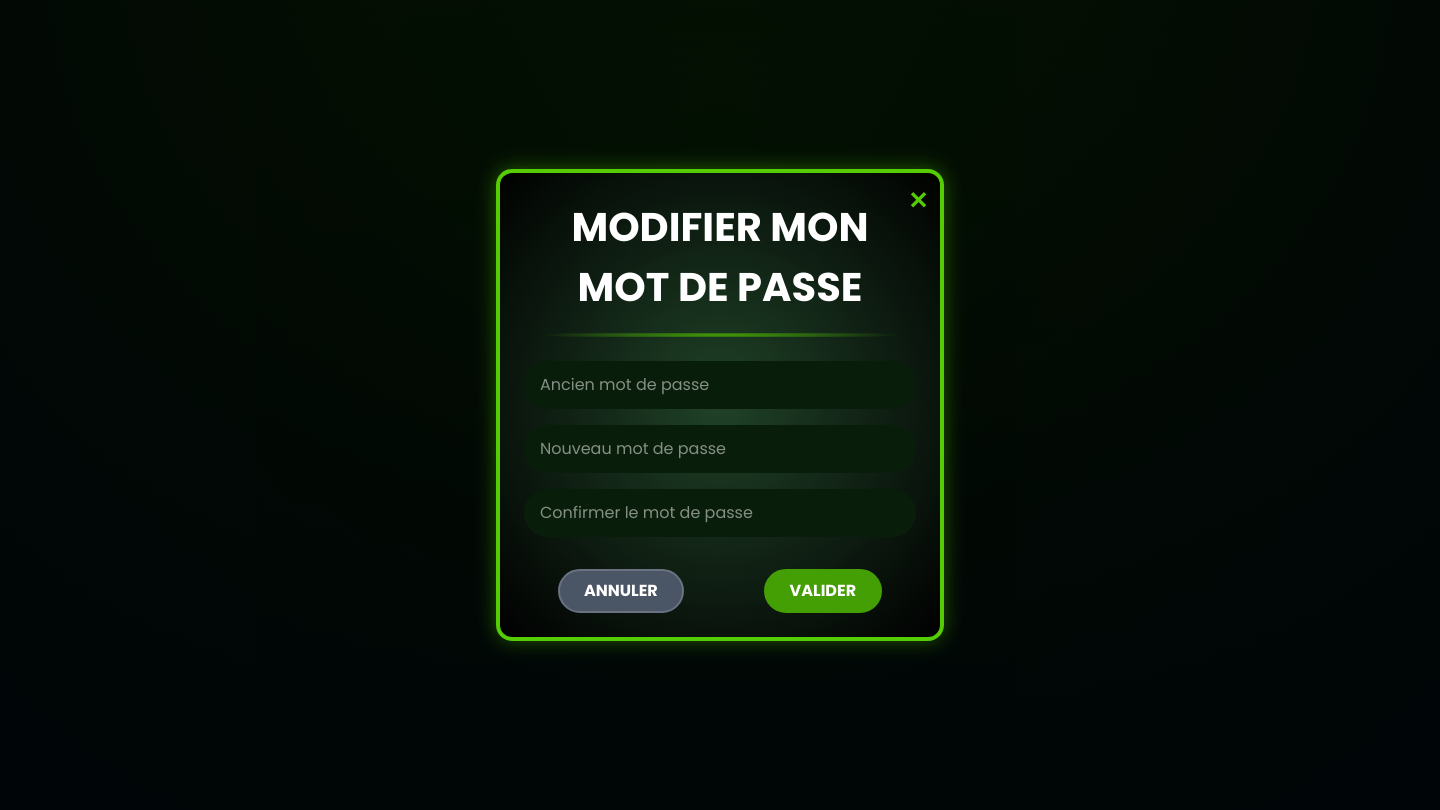
Test: ChangePasswordModal › sends the request and closes the modal on success
Note: Fill valid fields
Type "oldpass" into the password field with placeholder "Ancien mot de passe" at (720, 385), box [524,361,916,409]
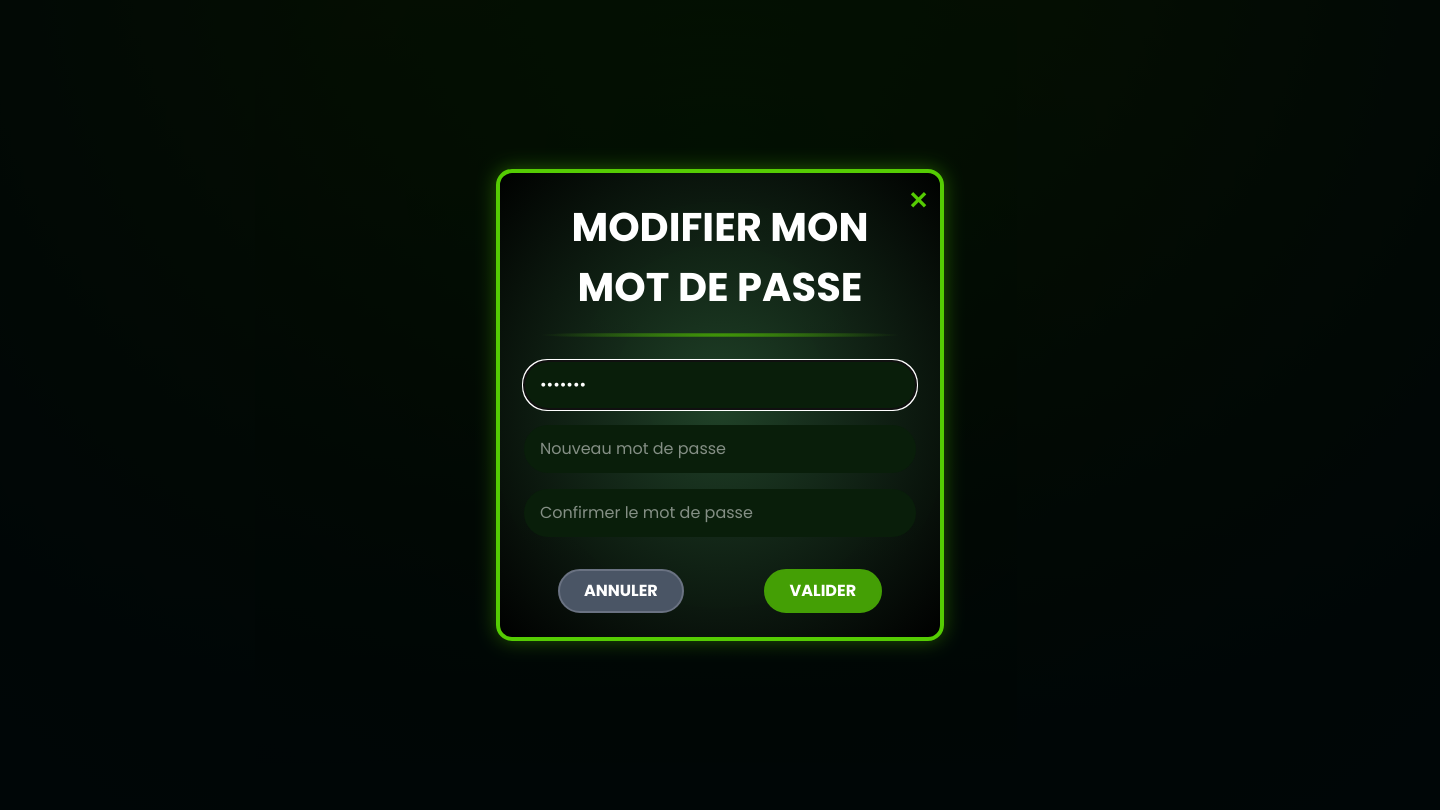
Type "newpass" into the password field with placeholder "Nouveau mot de passe" at (720, 449), box [524,425,916,473]
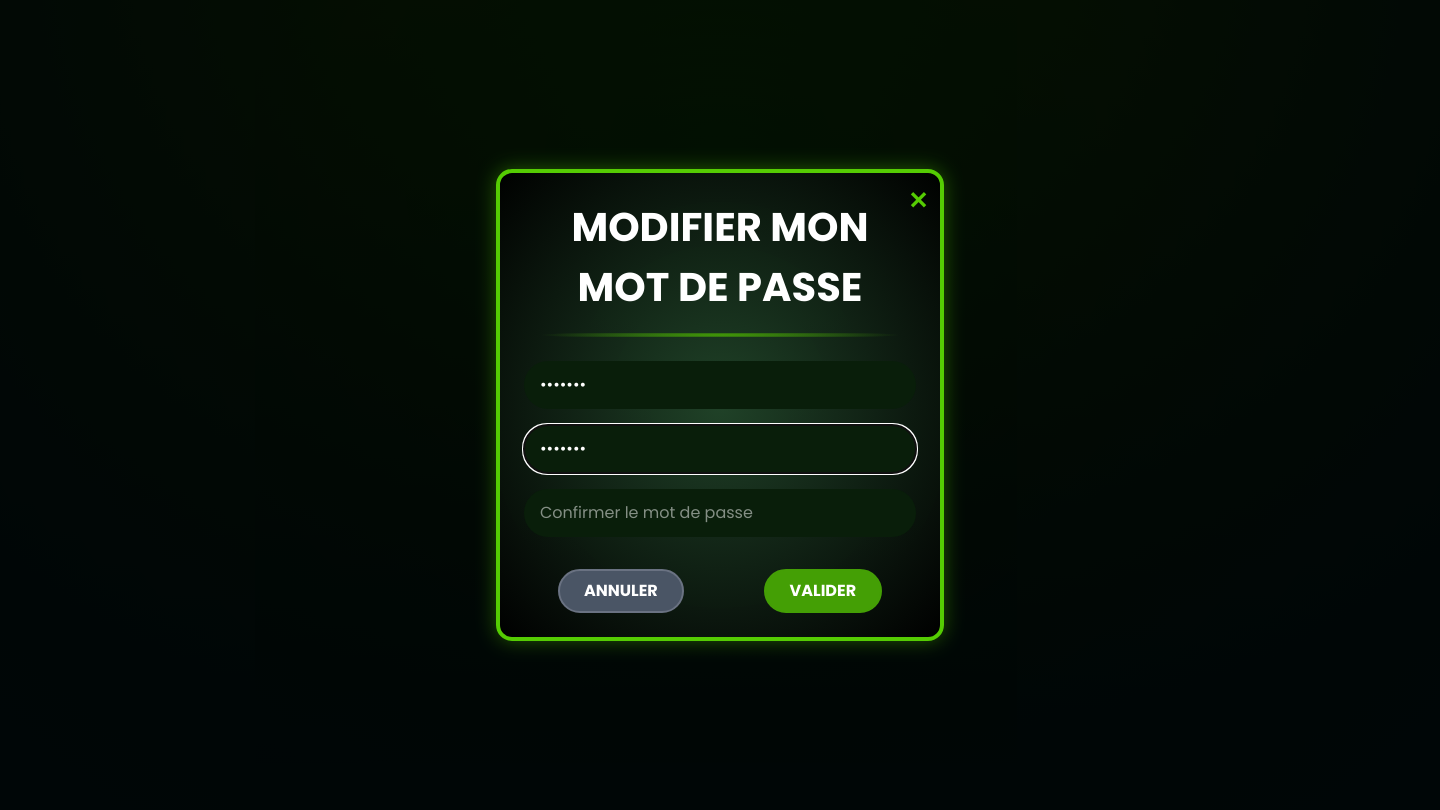
Type "newpass" into the password field with placeholder "Confirmer le mot de passe" at (720, 513), box [524,489,916,537]
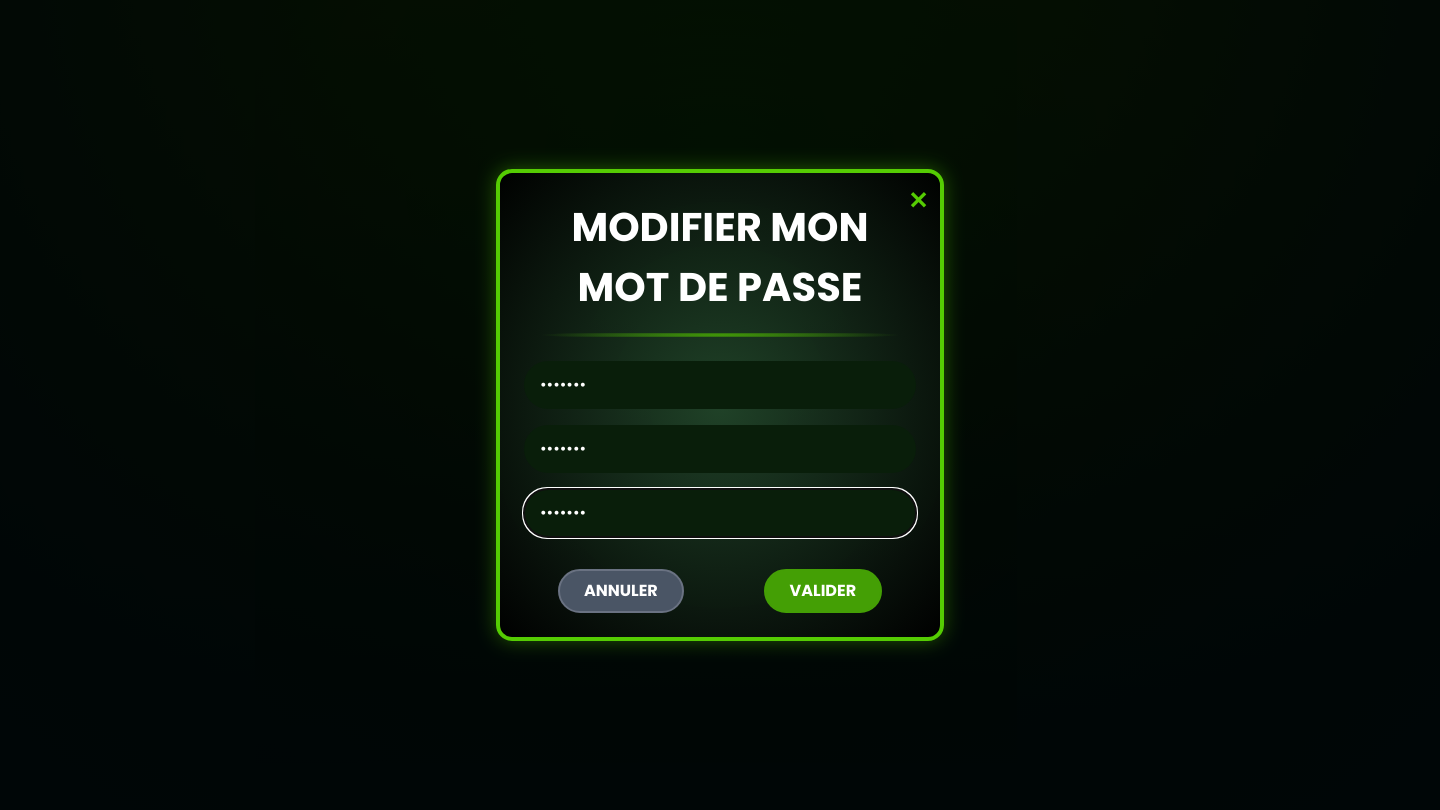
Click the button "Valider" at (823, 591), box [764,569,882,613]
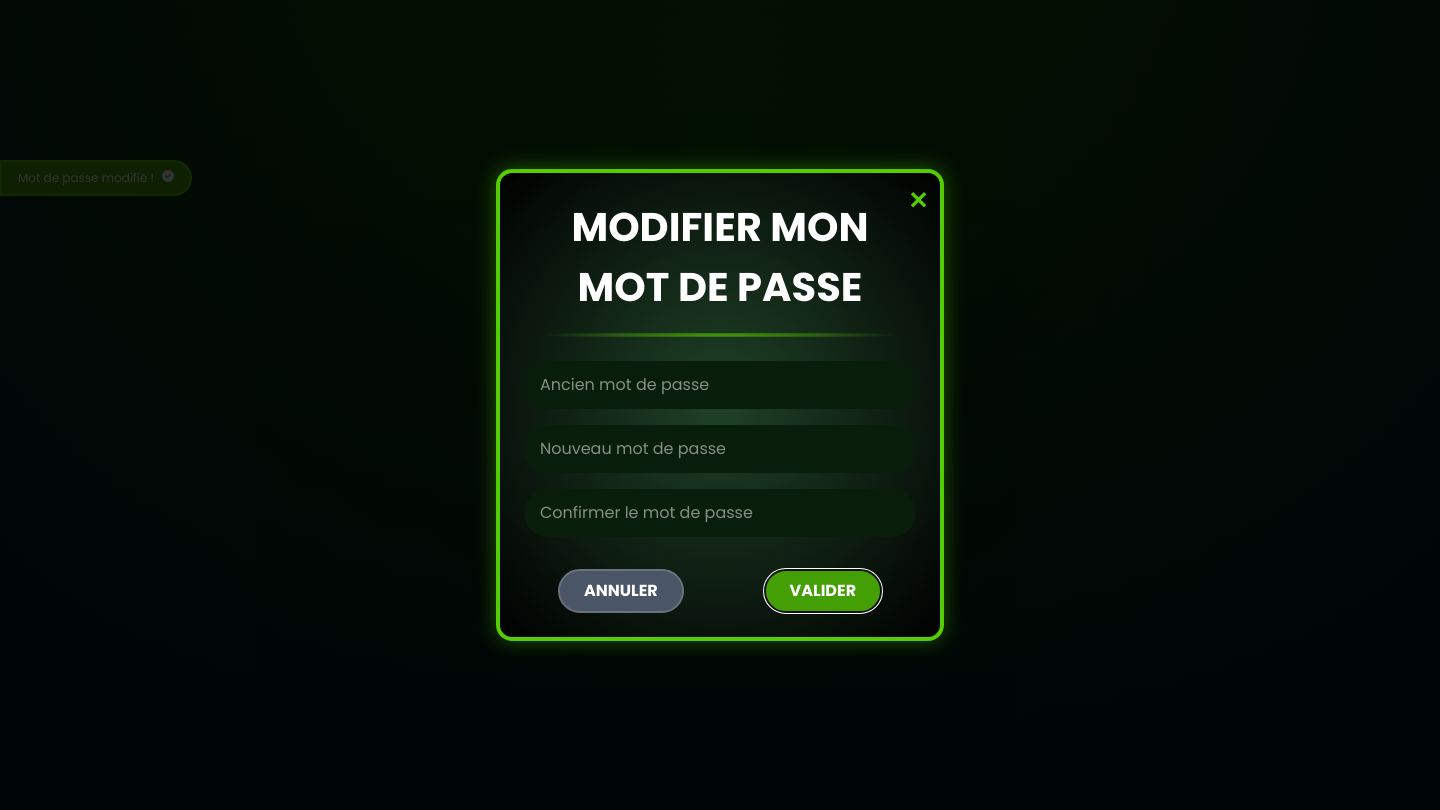
Expected: the text "Mot de passe modifié !" is shown, [18,170,154,186]
